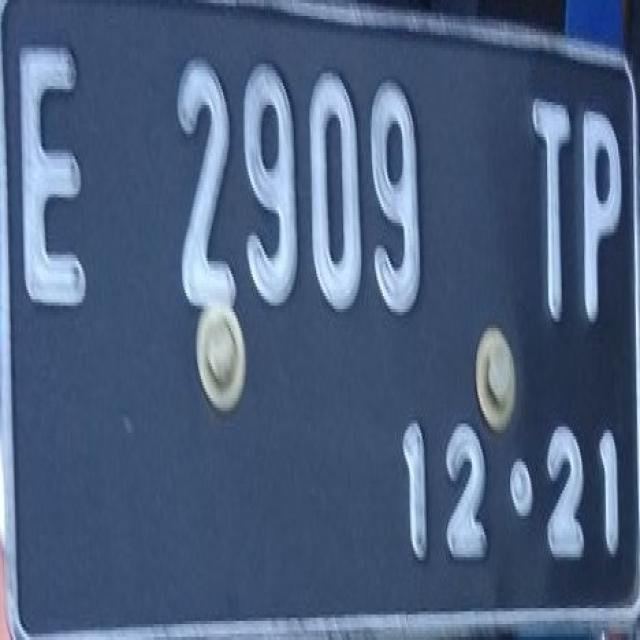plate: (1, 3, 639, 621)
